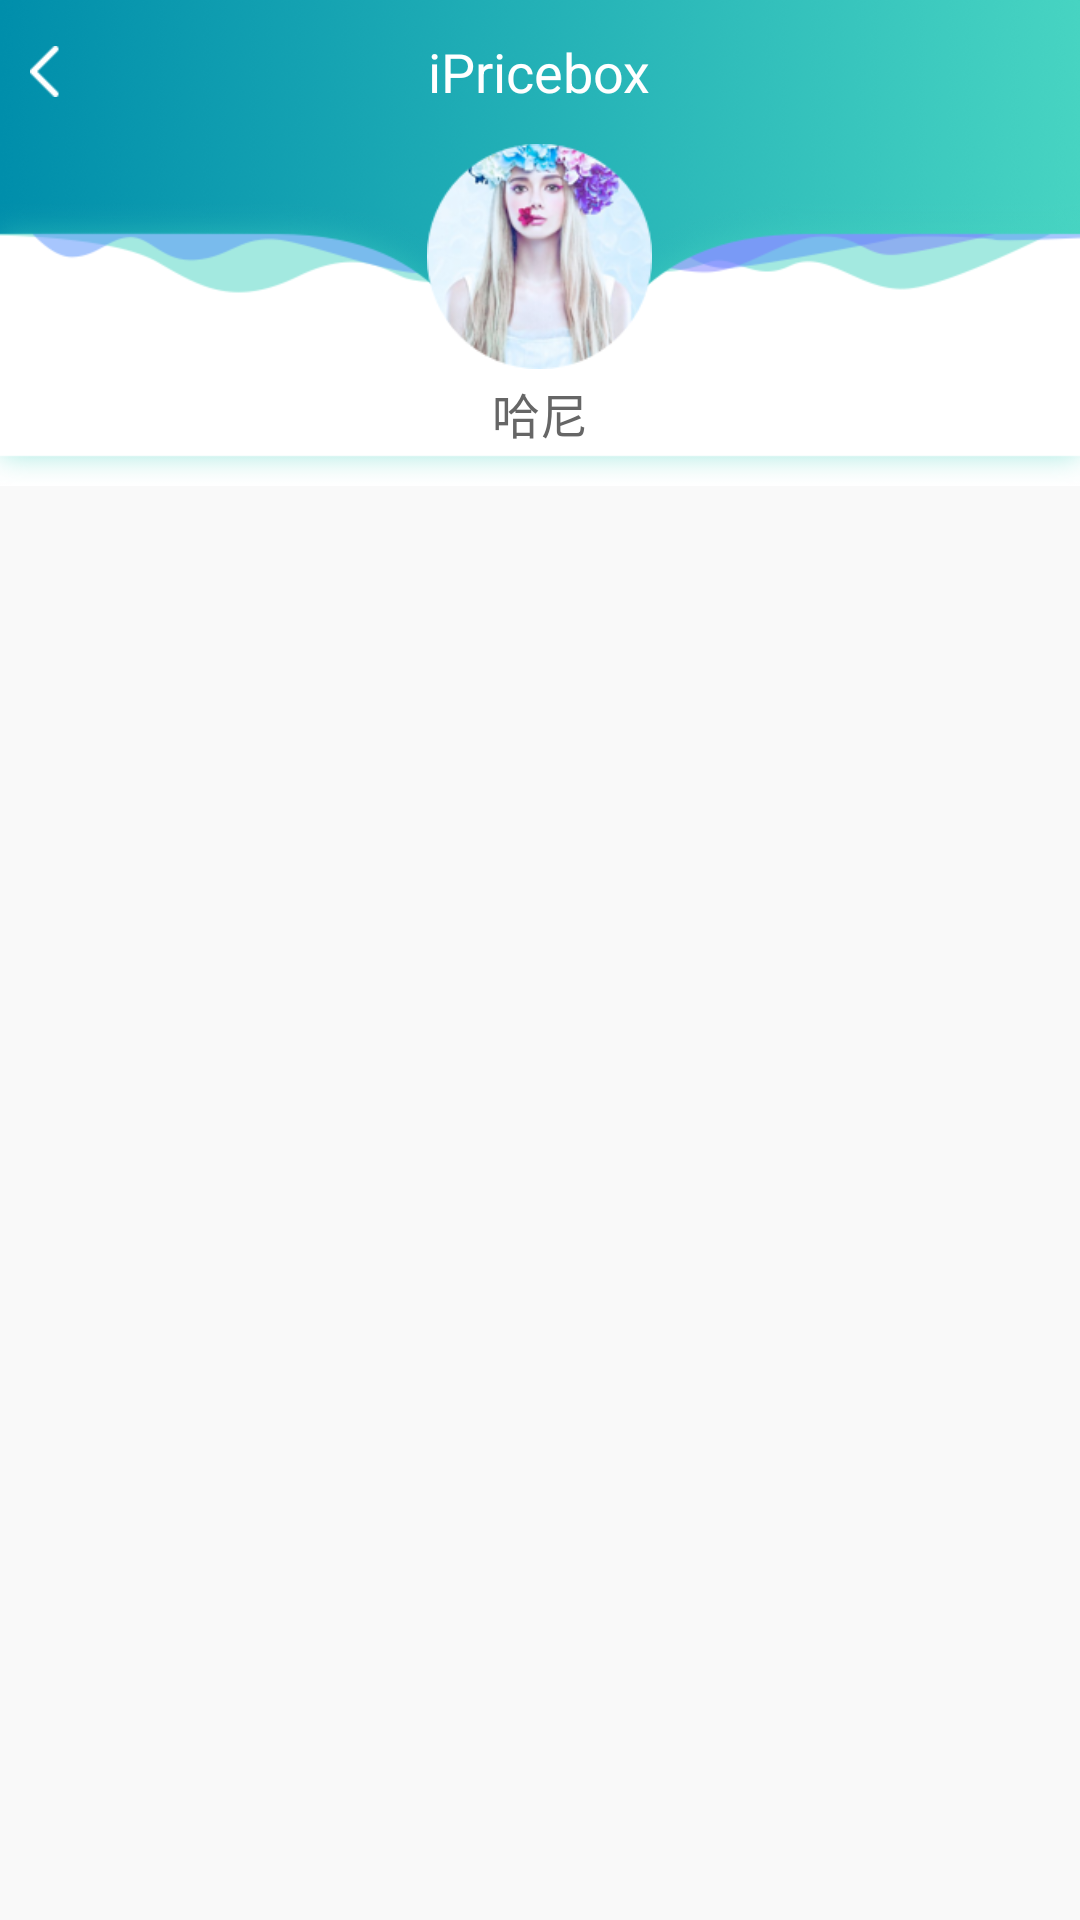

Icon click points for this 1080x1920 phone screenshot, format (x,y):
back: (44,71)
